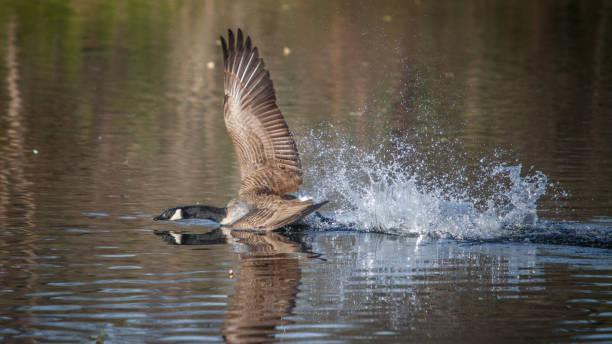Canadian-Goose: (153, 28, 326, 235)
